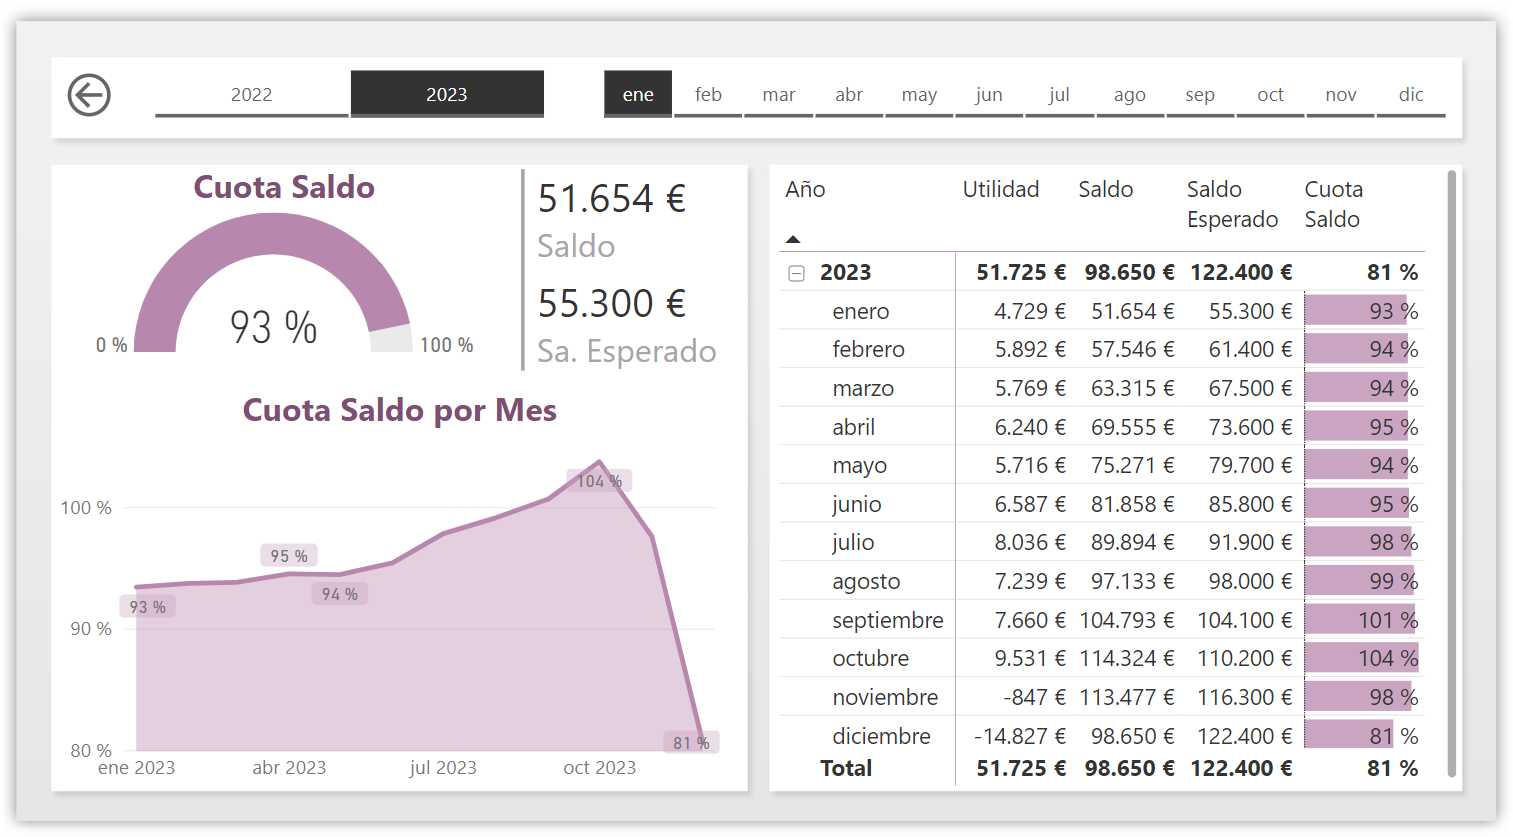

The page's visual inventory and layout, read from the dashboard file:
{"tool":"powerbi","page":{"name":"Cuota Saldo","canvas":[1280,720],"ordinal":8},"visuals":[{"type":"slicer","fields":{"Values":["Calendarios.Año"]},"box":[116.9,59.9,371.7,53.3],"z":0},{"type":"slicer","fields":{"Values":["Calendarios.Mes"]},"box":[488.6,59.9,746.7,53.3],"z":1000},{"type":"gauge","title":"Cuota Saldo","fields":{"Y":["Cuotas %.Cuota Saldo"]},"box":[57.8,143.3,383.3,166.7],"z":2000},{"type":"multiRowCard","fields":{"Values":["Finanzas.Saldo","Expectativas.Sa. Esperado"]},"box":[441.1,143.3,191.1,184.4],"z":3000},{"type":"actionButton","box":[65,60,46.7,55],"z":4000},{"type":"areaChart","title":"Cuota Saldo por Mes","fields":{"Category":["Calendarios.Fecha"],"Y":["Cuotas %.Cuota Saldo"]},"box":[57.8,327.8,574.4,336.7],"z":5000},{"type":"pivotTable","fields":{"Rows":["Calendarios.Año","Calendarios.Nombre del mes"],"Values":["Finanzas.Utilidad","Finanzas.Saldo","Expectativas.Sa. Esperado","Cuotas %.Cuota Saldo"]},"box":[654.4,143.3,572.2,521.1],"z":6000}]}

Visuals, with their boxes in screenshot pixels (x1, y1, x2, y2), scaled from the page's 1280x720 canvas onto the 1513x837 screenshot:
slicer - Calendarios.Año: 138, 70, 578, 132
slicer - Calendarios.Mes: 578, 70, 1460, 132
"Cuota Saldo" gauge: 68, 167, 521, 360
multiRowCard - Finanzas.Saldo x Expectativas.Sa. Esperado: 521, 167, 747, 381
actionButton: 77, 70, 132, 134
"Cuota Saldo por Mes" areaChart: 68, 381, 747, 772
pivotTable - Calendarios.Año x Calendarios.Nombre del mes: 774, 167, 1450, 772
